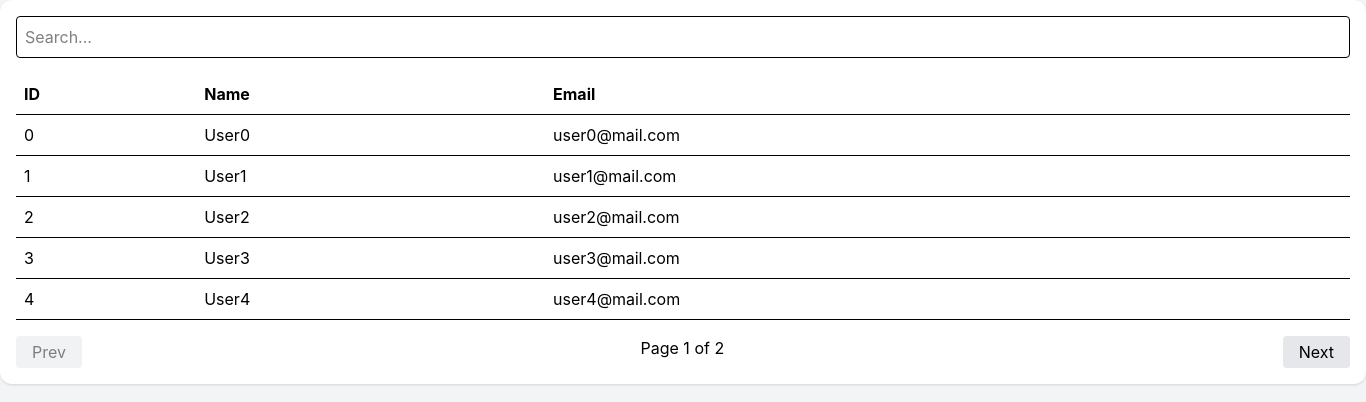
Test: Table Component › pagination works correctly
The image size is (1366, 402).
Click the button "Next": point(1316, 352) x1=1283 y1=336 x2=1350 y2=368
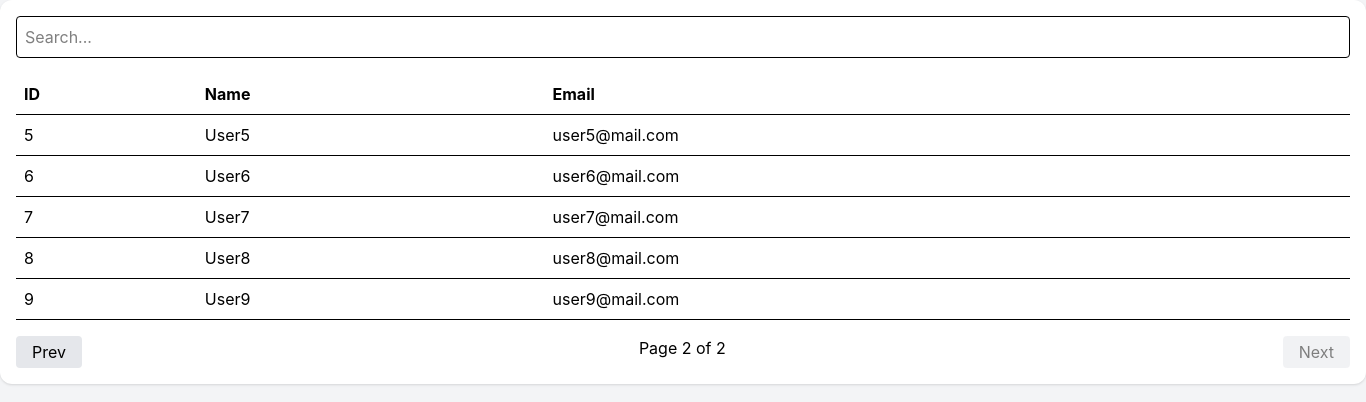
Result: the text "Page 2 of 2" is shown at x1=639 y1=336 x2=726 y2=368
